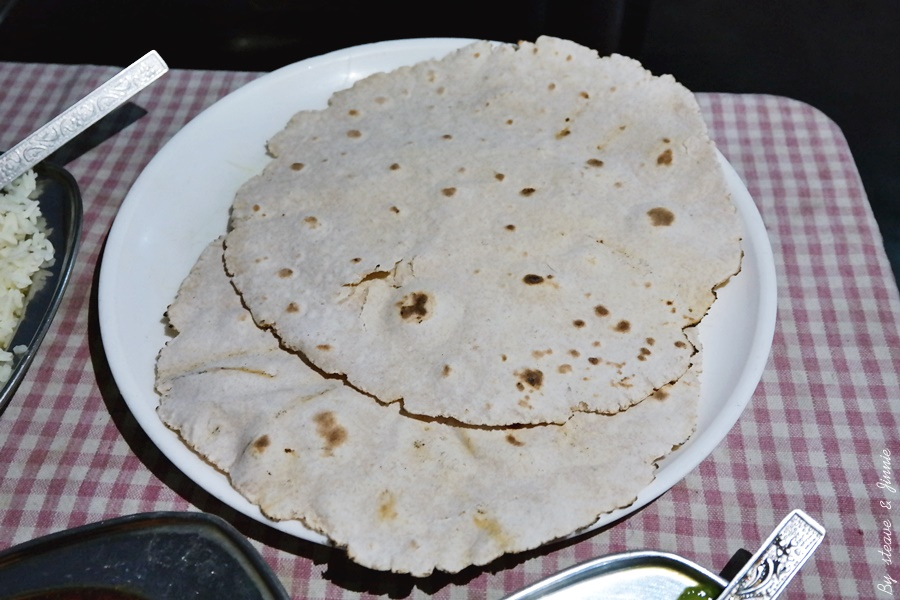slice of bread: (257, 31, 753, 424), (164, 226, 700, 567)
